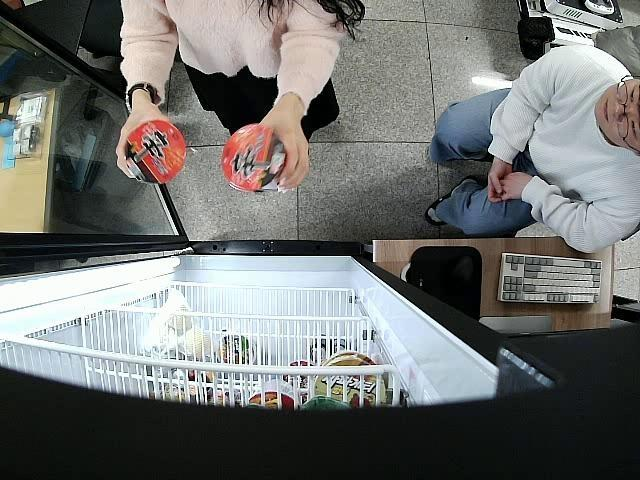02_shinRamen_S: (220, 124, 287, 192), (124, 120, 190, 185)
